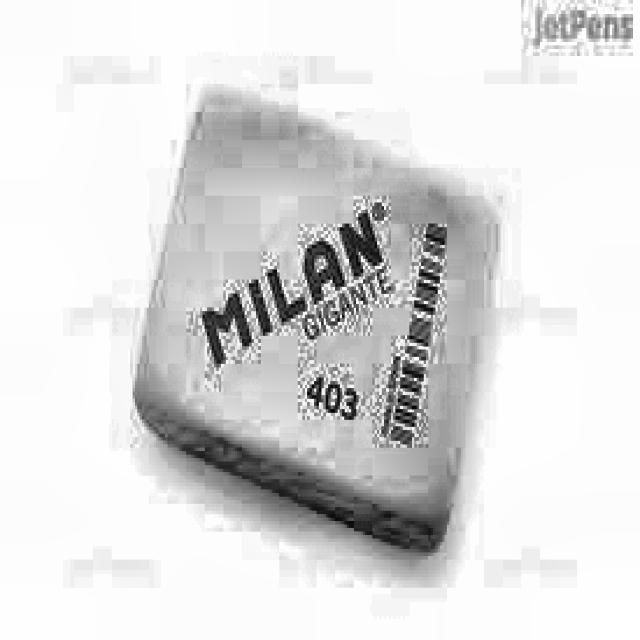eraser: (128, 80, 500, 563)
